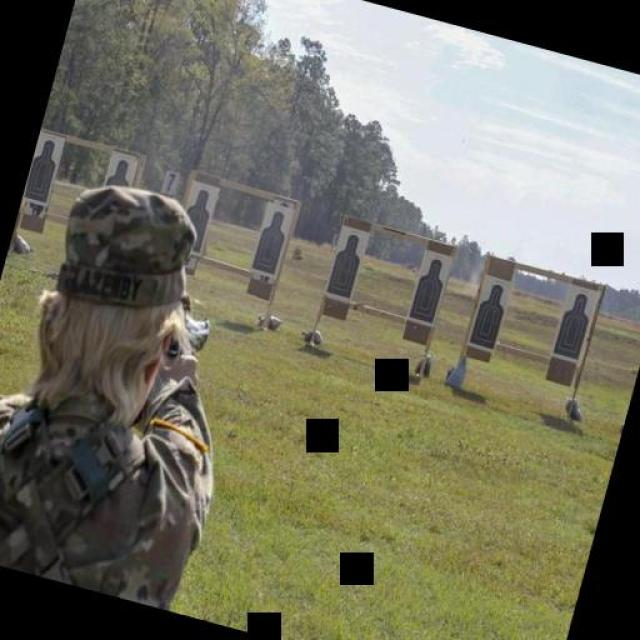gun: (162, 305, 212, 369)
